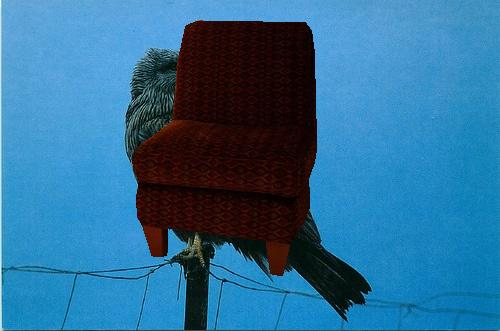tampered: (133, 21, 317, 276)
